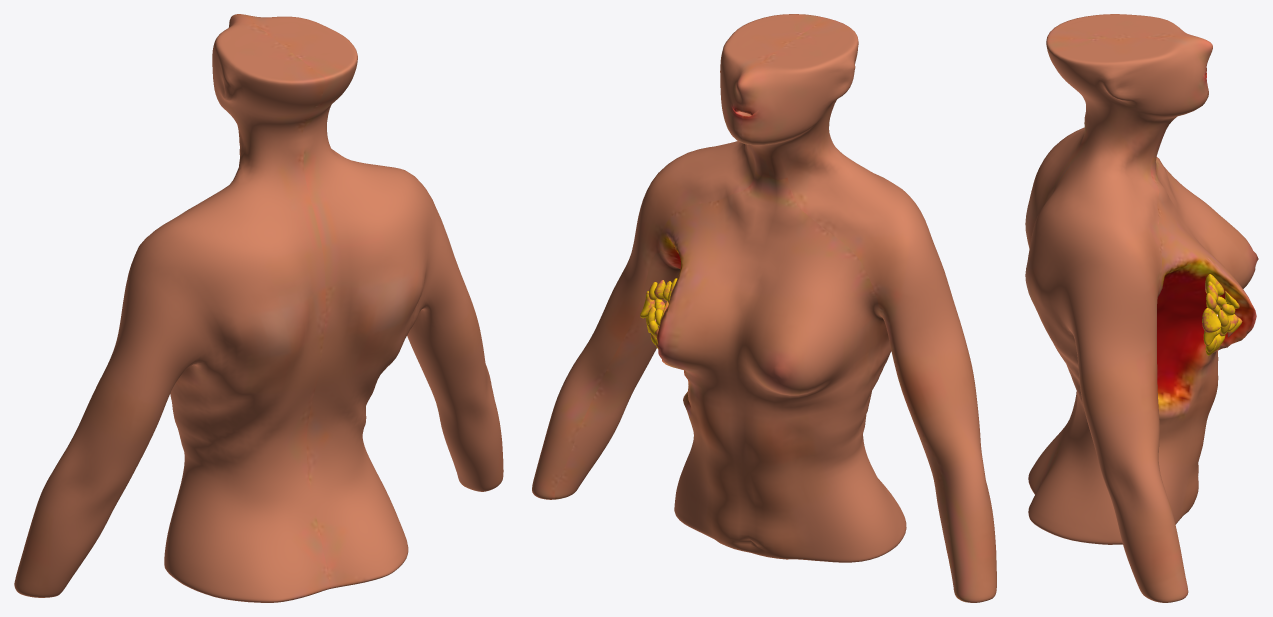
The model's file is mama_caso_004.glb.
The picture shows the model from 3 angles, left to right: view 1: azimuth 30°, elevation 25°; view 2: azimuth 150°, elevation 25°; view 3: azimuth 270°, elevation 25°; orthographic projection. The views are drawn at different scales.
Visible parts, largest first — view 1: Body; view 2: Body, Glands; view 3: Body, Glands.
Boxes of the visible parts, <box> form: Body: <box>14,14,503,602</box>; Body: <box>532,14,996,602</box>; Glands: <box>640,278,677,348</box>; Body: <box>1025,14,1258,602</box>; Glands: <box>1202,274,1242,355</box>.
Bounding box in the file's own units: 0.6751 × 0.6835 × 0.3122.
3 materials, 2 textured.
